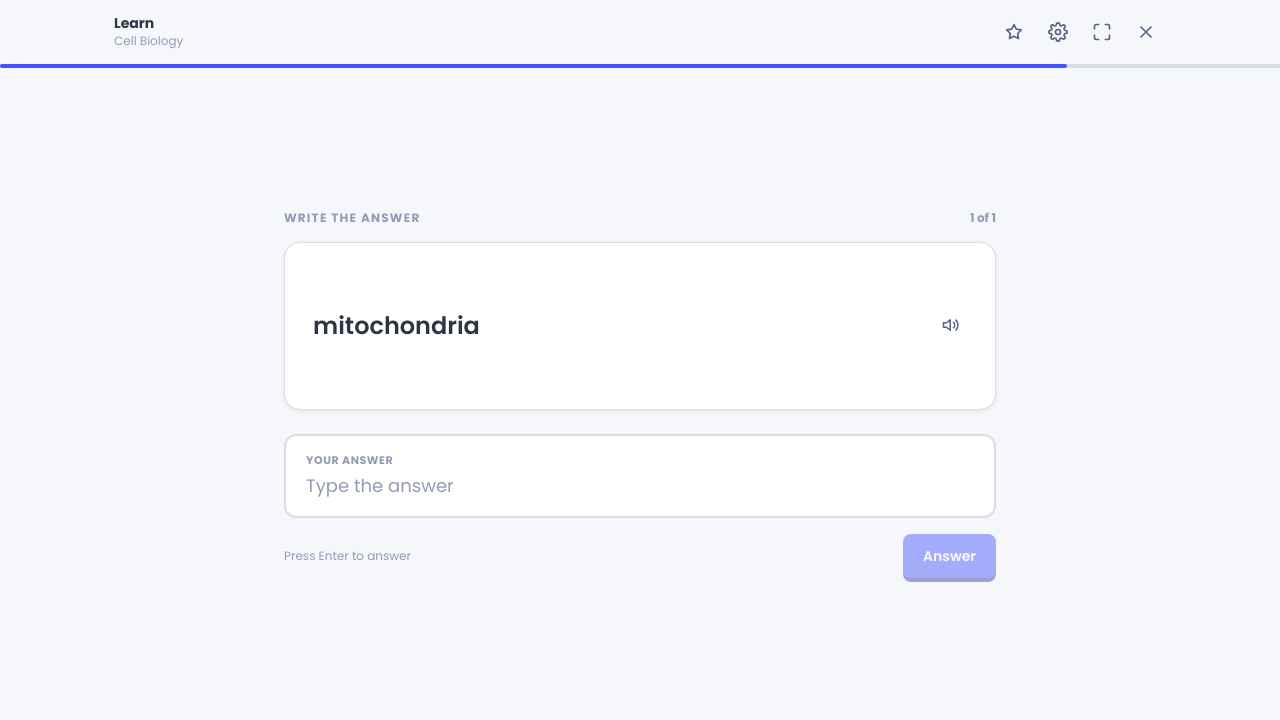
Test: Learn › grades a written answer and accepts a typo
Expected: the text "Write the answer" is shown, [284,210,420,226]
Type "powerhouse of the cel" into the field with placeholder "Type the answer" at [640, 486], box [306,472,974,500]
Then press Enter
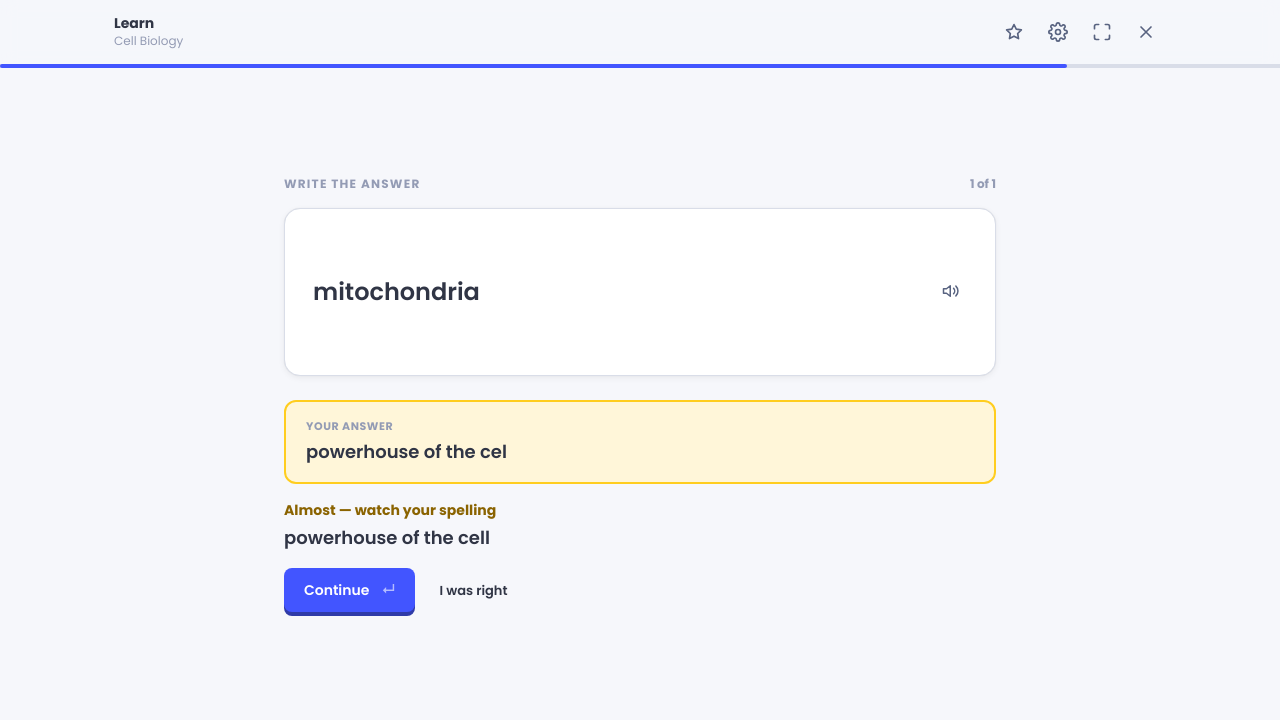
Expected: the text "Almost — watch your spelling" is shown, [284,500,496,520]
